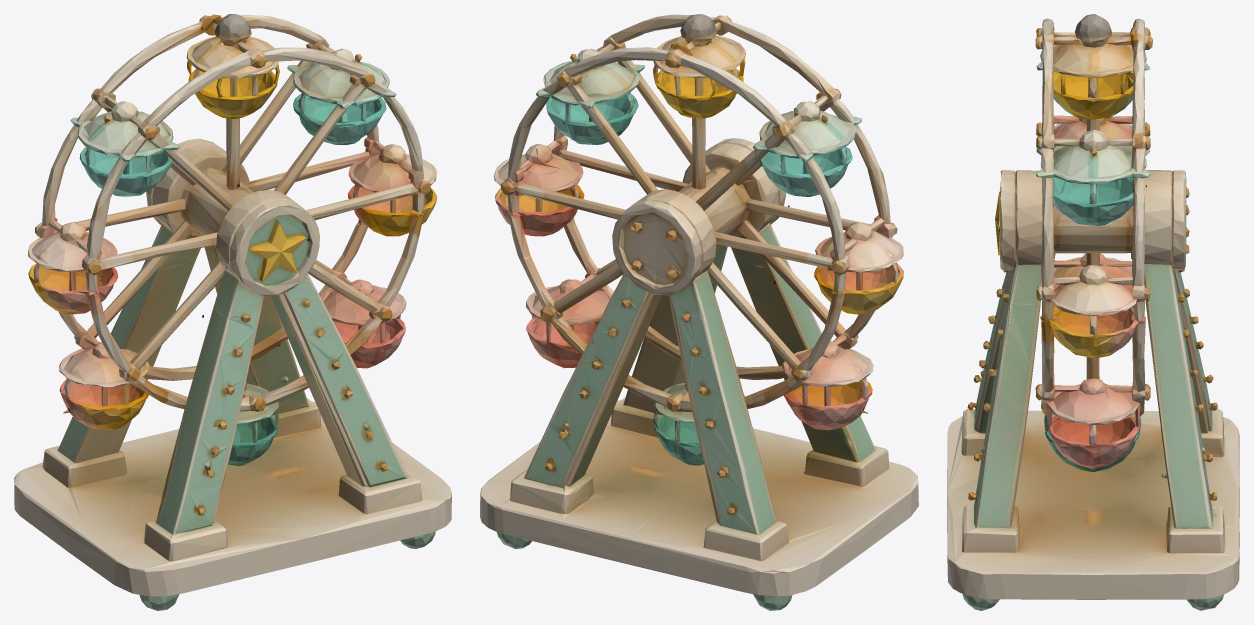
Rendered from 02-ferris-wheel.glb.
3 views of the same model, side by side, from view 1: azimuth 30°, elevation 25°; view 2: azimuth 150°, elevation 25°; view 3: azimuth 270°, elevation 25° (orthographic).
Bounding box in the file's own units: 0.7955 × 0.9995 × 0.4998.
1 material, 1 textured.
